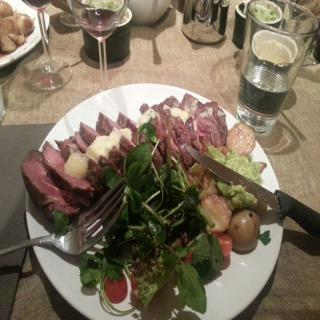Potato: (227, 211, 261, 256)
Salad: (20, 90, 272, 316)
